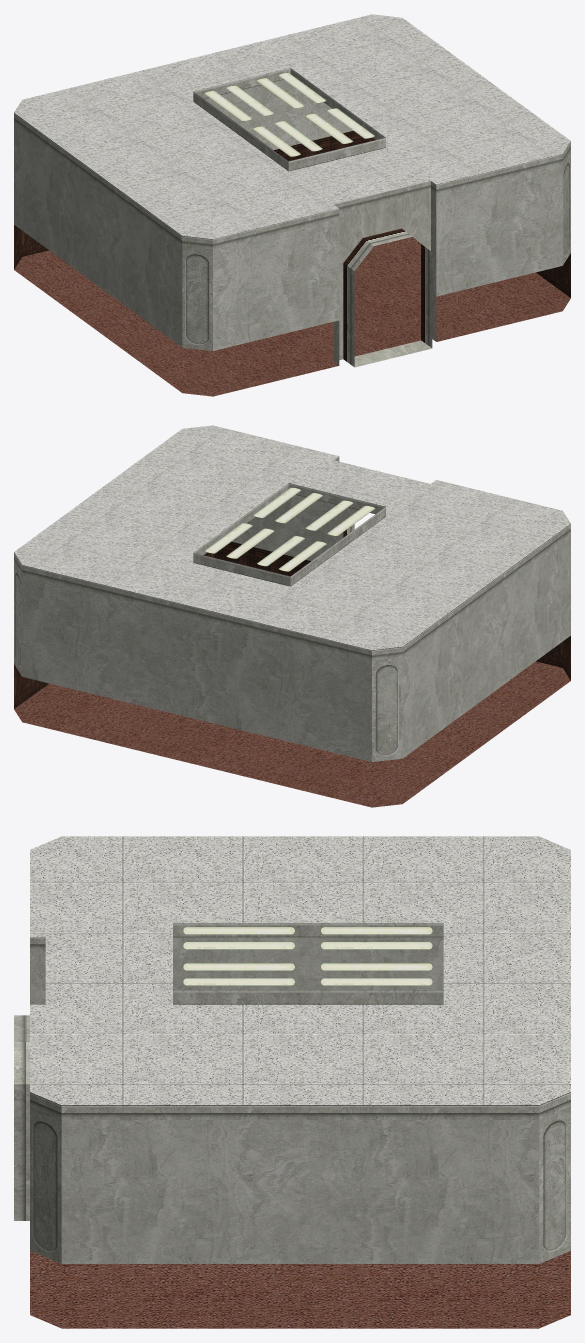
Rendered from mun_all_guild_university_s01_r8_meetingd_mesh_meetingd.fbx.
The picture shows the model from 3 angles, top to bottom: view 1: azimuth 30°, elevation 25°; view 2: azimuth 150°, elevation 25°; view 3: azimuth 270°, elevation 25°; orthographic projection. The views are drawn at different scales.
Parts seen in each view (by area): view 1: mesh_node; view 2: mesh_node; view 3: mesh_node.
Part boxes in pixels (x1,y1,x2,y2): mesh_node: (14, 14, 570, 396); mesh_node: (14, 425, 570, 807); mesh_node: (14, 836, 570, 1328).
Bounding box in the file's own units: 10 × 4.12 × 8.75.
